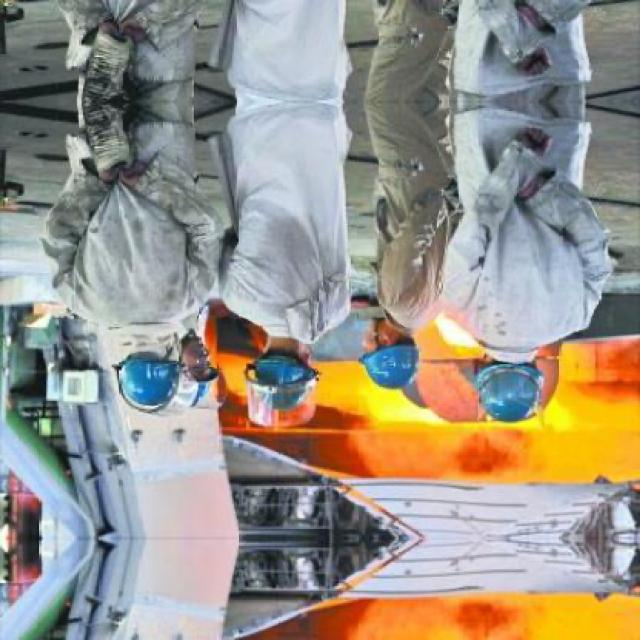con casco: (88, 291, 210, 416), (233, 289, 326, 421), (447, 332, 551, 426), (362, 332, 438, 398)
